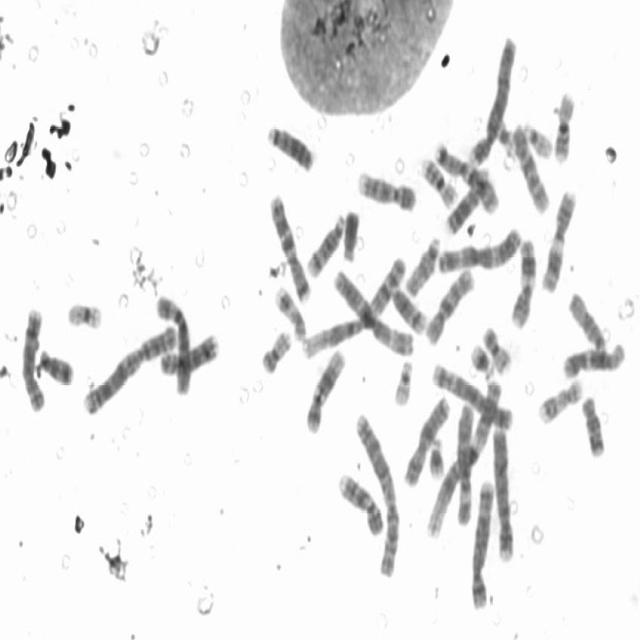A1: (420, 368, 504, 540), (297, 249, 409, 361)
A2: (78, 317, 180, 418), (352, 407, 402, 579)
A3: (330, 263, 415, 357), (433, 220, 524, 274)
B4: (464, 28, 518, 168), (488, 418, 516, 563)
B5: (430, 357, 515, 432), (468, 473, 496, 611)
C10: (422, 261, 476, 347), (508, 114, 551, 216)
C11: (537, 183, 578, 295), (507, 230, 538, 330)
C12: (302, 342, 346, 436), (558, 334, 628, 380)
C6: (152, 287, 194, 396), (452, 398, 473, 526)
C7: (265, 185, 312, 304), (431, 136, 500, 214)
C8: (156, 325, 221, 378), (17, 298, 46, 414)
C9: (334, 466, 384, 538), (353, 162, 418, 213)
D13: (443, 160, 493, 237), (263, 116, 317, 173)
D14: (304, 206, 348, 279), (387, 279, 429, 335)
D15: (564, 284, 608, 355), (402, 229, 442, 299)
E16: (416, 150, 458, 208), (550, 84, 577, 165)
E17: (534, 370, 585, 426), (271, 280, 307, 342)
E18: (578, 389, 608, 458), (34, 341, 75, 388)
F19: (63, 294, 105, 332), (494, 117, 522, 160)
F20: (478, 318, 514, 376), (257, 323, 293, 376)
G21: (466, 336, 496, 380), (425, 429, 447, 482)
G22: (520, 115, 555, 161), (390, 352, 415, 407)
X: (400, 390, 451, 488)
Y: (339, 202, 361, 262)
